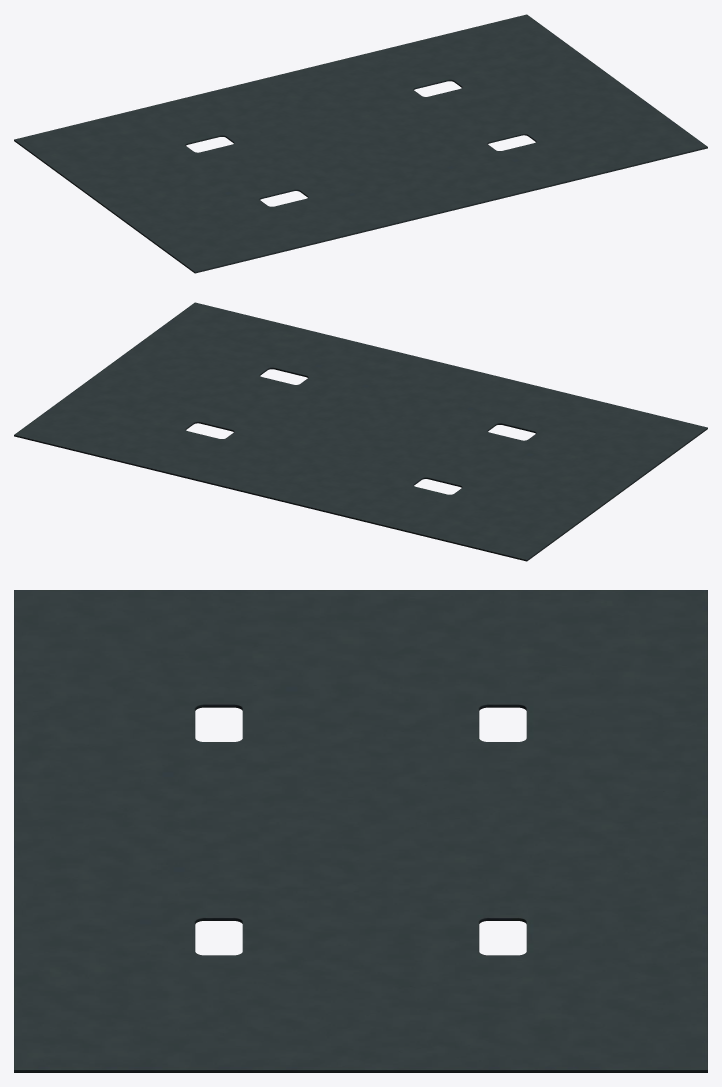
The picture shows the model from 3 angles, top to bottom: view 1: azimuth 30°, elevation 25°; view 2: azimuth 150°, elevation 25°; view 3: azimuth 270°, elevation 25°; orthographic projection. The views are drawn at different scales.
Visible parts, largest first — view 1: HORNEADO_suelo; view 2: HORNEADO_suelo; view 3: HORNEADO_suelo.
Part boxes in pixels (bbox=[...]): HORNEADO_suelo: bbox=[14, 14, 707, 273]; HORNEADO_suelo: bbox=[14, 302, 707, 561]; HORNEADO_suelo: bbox=[14, 590, 707, 1072].
Size of what is drawn, in the model's own units: 36 by 0.1 by 22.
Materials: 1 (1 with a texture image).
